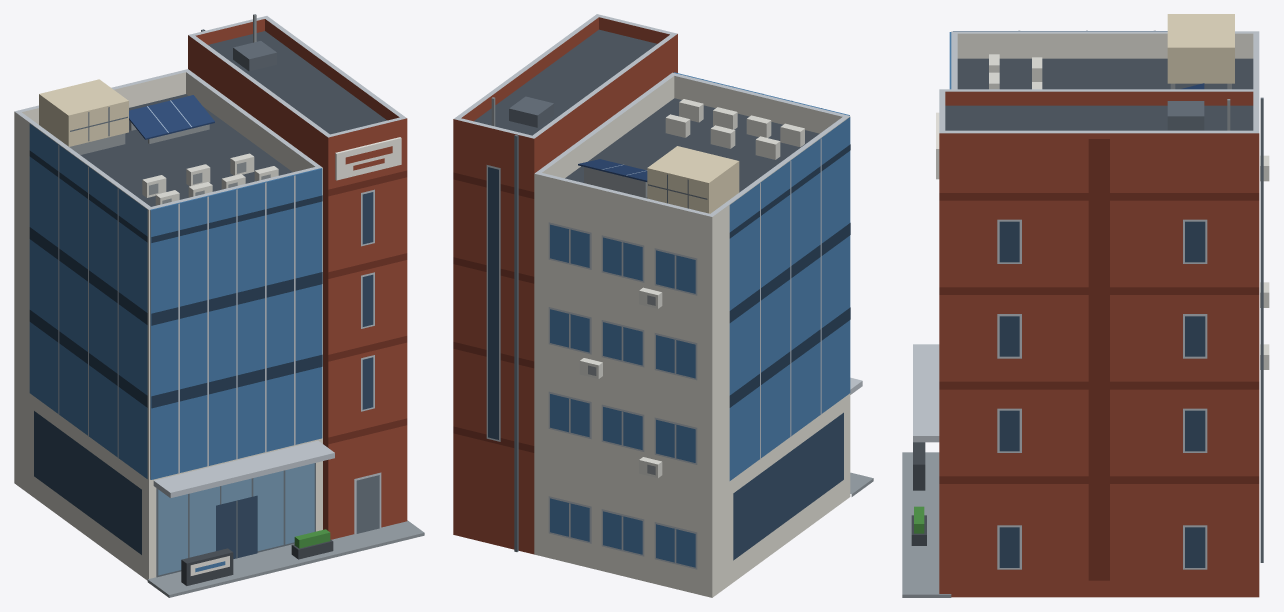
File: kantor_04.glb
3 renders of one model, left to right at view 1: azimuth 30°, elevation 25°; view 2: azimuth 150°, elevation 25°; view 3: azimuth 270°, elevation 25°, orthographic. The views are drawn at different scales.
Visible parts, largest first — view 1: kantor_04; view 2: kantor_04; view 3: kantor_04.
Part boxes in pixels (x1,y1,x2,y2): kantor_04: (14, 14, 424, 597); kantor_04: (453, 14, 873, 597); kantor_04: (902, 14, 1269, 597).
Size of the model in its own units: 11 by 17.4 by 11.98.
